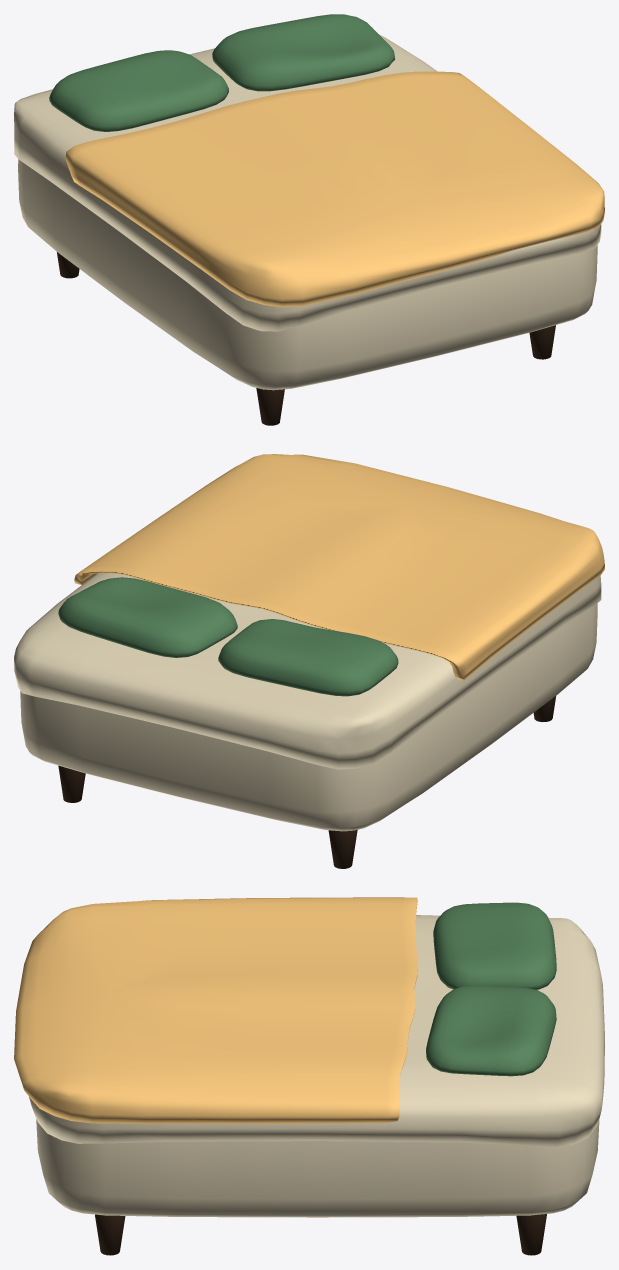
File: bed_temp2.fbx
3 renders of one model, top to bottom at view 1: azimuth 30°, elevation 25°; view 2: azimuth 150°, elevation 25°; view 3: azimuth 270°, elevation 25°, orthographic. The views are drawn at different scales.
Parts seen in each view (by area): view 1: sheet.001, bed, sheet, Cube.001, Cube, leg, leg.001; view 2: sheet.001, bed, sheet, Cube.001, Cube, leg.002, leg.003; view 3: sheet.001, bed, sheet, Cube.001, Cube, leg.003, leg.001.
Boxes of the visible parts, x1,y1,x2,y2 form: sheet.001: [65, 71, 604, 307]; bed: [18, 159, 597, 390]; sheet: [14, 34, 601, 331]; Cube.001: [212, 14, 394, 91]; Cube: [49, 50, 228, 131]; leg: [256, 388, 284, 425]; leg.001: [529, 325, 555, 359]; sheet.001: [74, 454, 604, 680]; bed: [20, 603, 597, 831]; sheet: [14, 573, 601, 769]; Cube.001: [58, 577, 237, 657]; Cube: [218, 619, 398, 696]; leg.002: [328, 830, 357, 868]; leg.003: [58, 765, 85, 802]; sheet.001: [14, 897, 417, 1124]; bed: [36, 1119, 599, 1217]; sheet: [29, 915, 604, 1147]; Cube.001: [426, 985, 556, 1076]; Cube: [433, 902, 556, 989]; leg.003: [516, 1214, 546, 1255]; leg.001: [95, 1214, 125, 1255].
Bounding box in the file's own units: 225 × 109 × 279.
